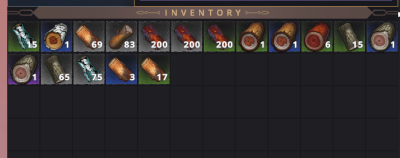ash heartwood: (8, 54, 39, 83), (368, 21, 396, 50)
ash log: (334, 21, 364, 50), (43, 55, 70, 83)
birch heartwood: (42, 22, 72, 52)
birch log: (7, 21, 39, 51), (75, 55, 103, 83)
oak log: (74, 21, 104, 51), (106, 54, 136, 83), (138, 55, 169, 82)
spruce heartwood: (270, 21, 299, 51), (237, 22, 266, 50)
spruce log: (107, 21, 136, 51)
yew heartwood: (302, 22, 332, 51)
yew log: (172, 22, 201, 51), (139, 22, 169, 50), (204, 22, 234, 50)
